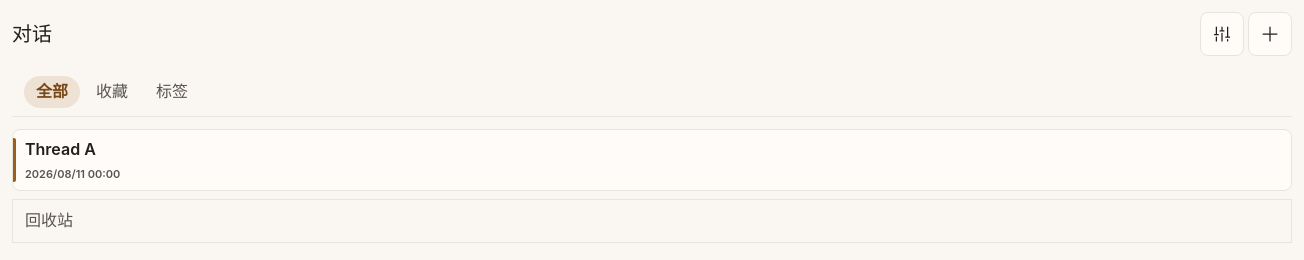
Test case: thread recycle bin navigation › renders a third recycle-bin tab and honest empty state
Expected: the button "Thread A 2026/08/11 00:00" is shown, [12,129,1292,191]
Click the button "回收站": click(49, 220) [12,199,1292,243]
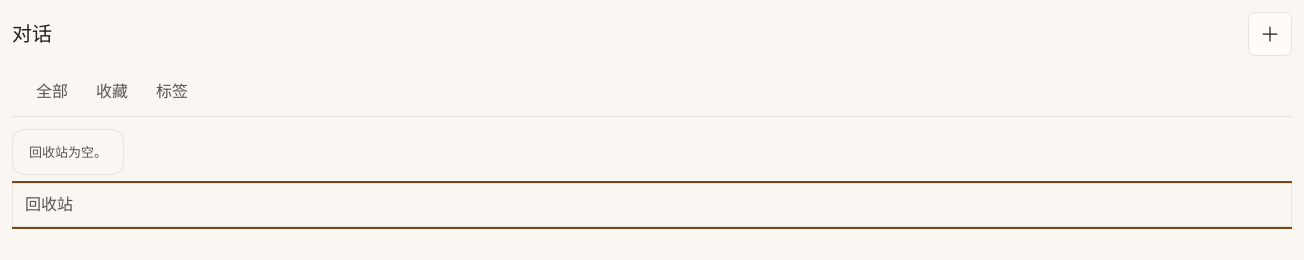
Expected: the text "回收站为空。" is shown, [29,142,107,162]
